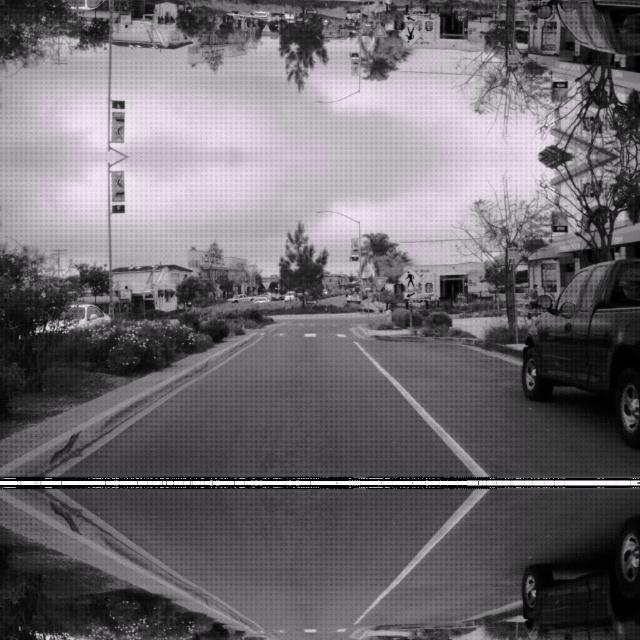pedestrianCrossing: (398, 264, 422, 290), (398, 22, 422, 48)
yield: (372, 274, 388, 290), (372, 22, 388, 38)
